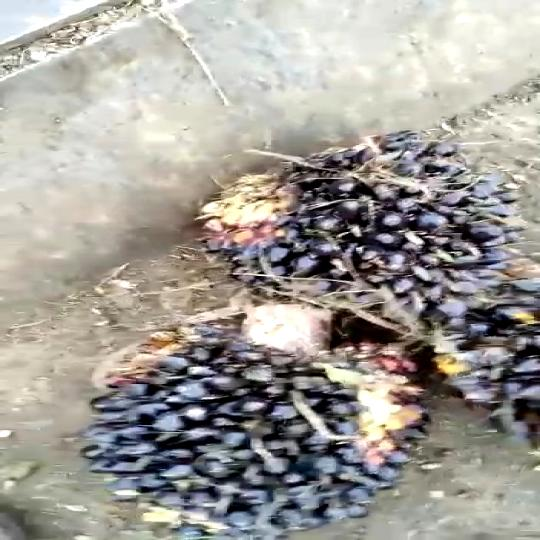mentah: (84, 328, 420, 533), (170, 134, 540, 292)
